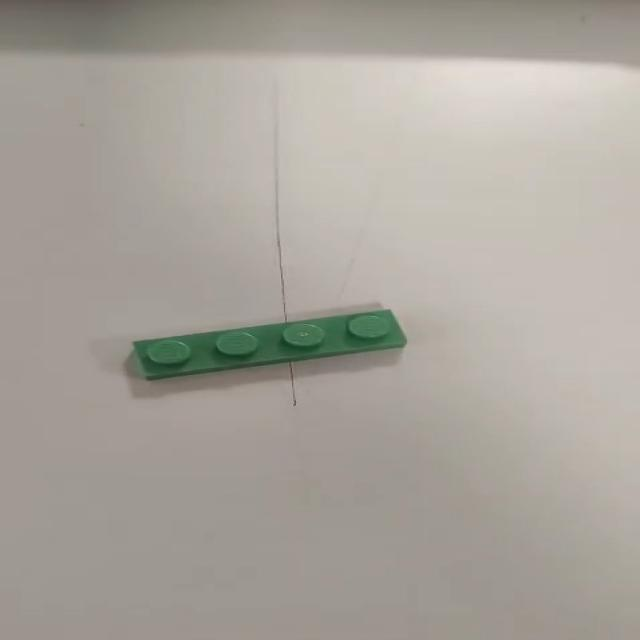C4x1x0: (121, 307, 409, 388)
